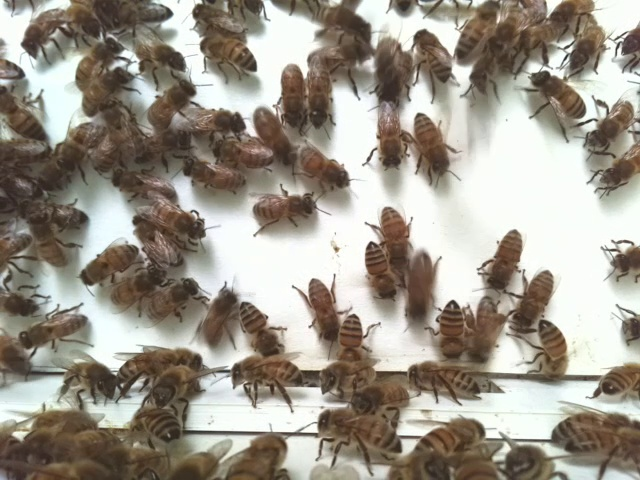bee: (52, 341, 213, 456), (63, 36, 202, 135), (298, 400, 409, 478), (368, 14, 455, 109), (512, 56, 595, 150), (125, 192, 219, 273), (402, 404, 510, 470), (427, 292, 508, 372), (396, 354, 509, 411), (218, 351, 315, 414), (511, 314, 584, 395), (405, 105, 470, 193), (226, 292, 294, 373), (241, 186, 335, 240), (171, 148, 259, 204), (367, 196, 422, 280), (288, 271, 349, 346), (362, 98, 416, 178), (9, 315, 106, 357), (480, 218, 528, 301), (189, 30, 262, 84), (138, 273, 207, 330), (69, 237, 141, 290), (17, 7, 81, 66), (515, 255, 556, 347), (272, 57, 313, 137), (303, 58, 342, 139), (356, 241, 402, 304)
